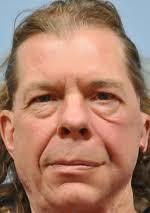normalEye: (18, 79, 126, 123)
strokeMouthWeak: (34, 150, 116, 177)
